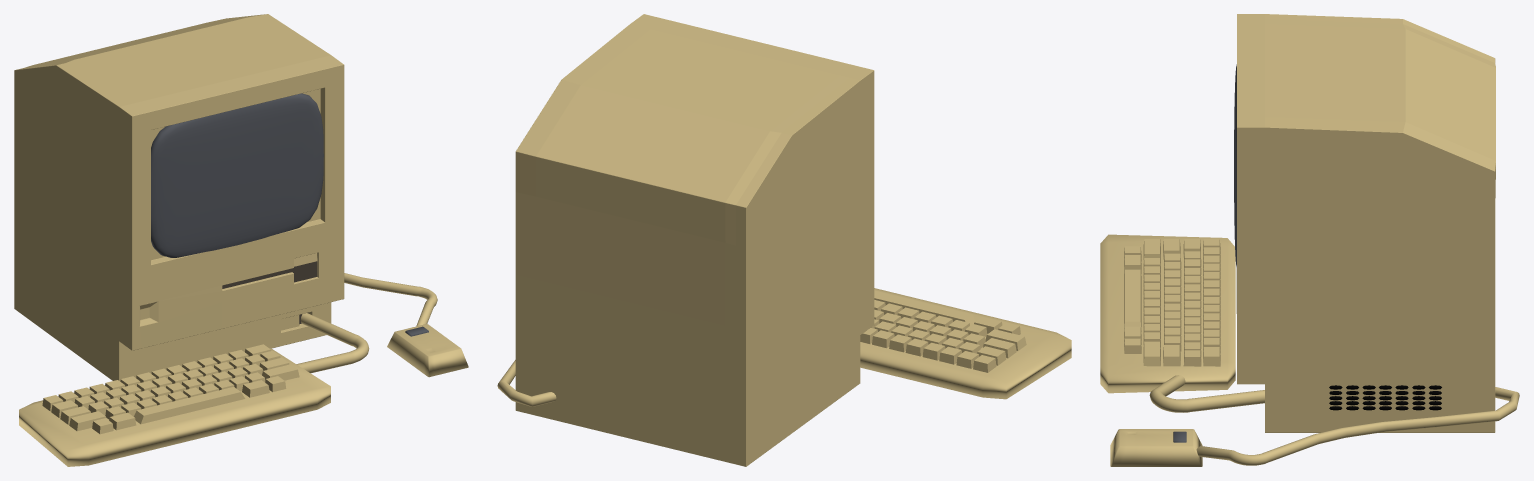
The model's file is компьютер.fbx.
3 views of the same model, side by side, from view 1: azimuth 30°, elevation 25°; view 2: azimuth 150°, elevation 25°; view 3: azimuth 270°, elevation 25° (orthographic). The views are drawn at different scales.
Visible parts, largest first — view 1: Cube, Куб, Куб.094, Куб.095, Torus, Куб.091, Torus.001; view 2: Cube, Куб.094, Куб.091, Torus.001; view 3: Cube, Куб.094, Torus.001, Куб.095, Torus, Куб.091, Куб, Куб.078.
Part boxes in pixels (x1,y1,x2,y2): Cube: [14, 14, 344, 380]; Куб: [151, 93, 323, 257]; Куб.094: [19, 348, 330, 466]; Куб.095: [387, 324, 468, 377]; Torus: [296, 313, 369, 373]; Куб.091: [134, 387, 245, 424]; Torus.001: [344, 273, 437, 326]; Cube: [515, 14, 874, 466]; Куб.094: [860, 288, 1071, 399]; Куб.091: [874, 290, 975, 325]; Torus.001: [497, 360, 556, 406]; Cube: [1236, 14, 1495, 432]; Куб.094: [1100, 234, 1235, 393]; Torus.001: [1196, 387, 1519, 465]; Куб.095: [1110, 429, 1202, 466]; Torus: [1149, 375, 1264, 412]; Куб.091: [1124, 269, 1141, 331]; Куб: [1234, 64, 1236, 267]; Куб.078: [1143, 341, 1160, 366].
Bounding box in the file's own units: 624 × 385 × 479.
